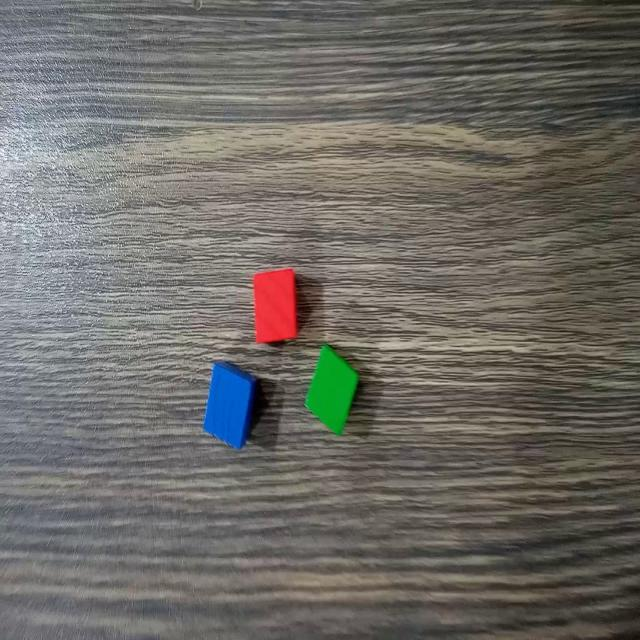cube: (303, 341, 362, 438), (200, 357, 258, 448), (249, 263, 299, 347)
